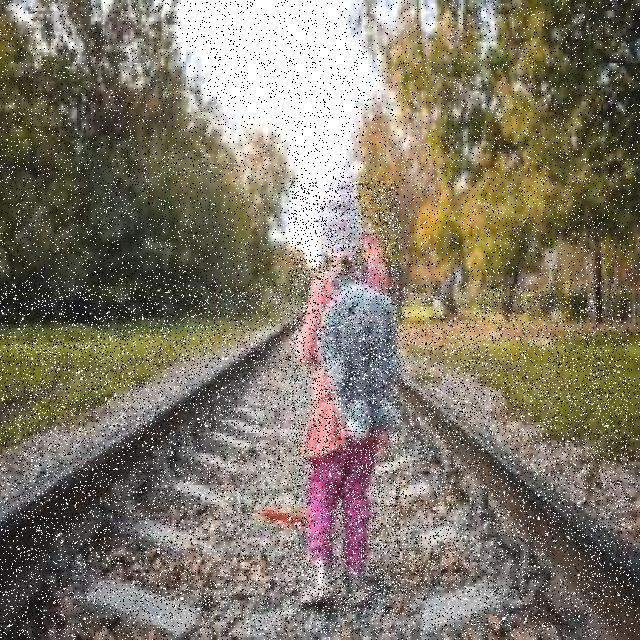danger: (289, 182, 400, 616)
rail: (2, 284, 630, 636)
